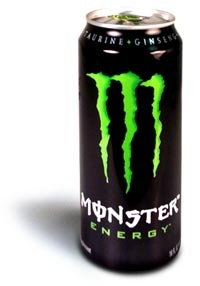grozi_42: (78, 5, 183, 273)
